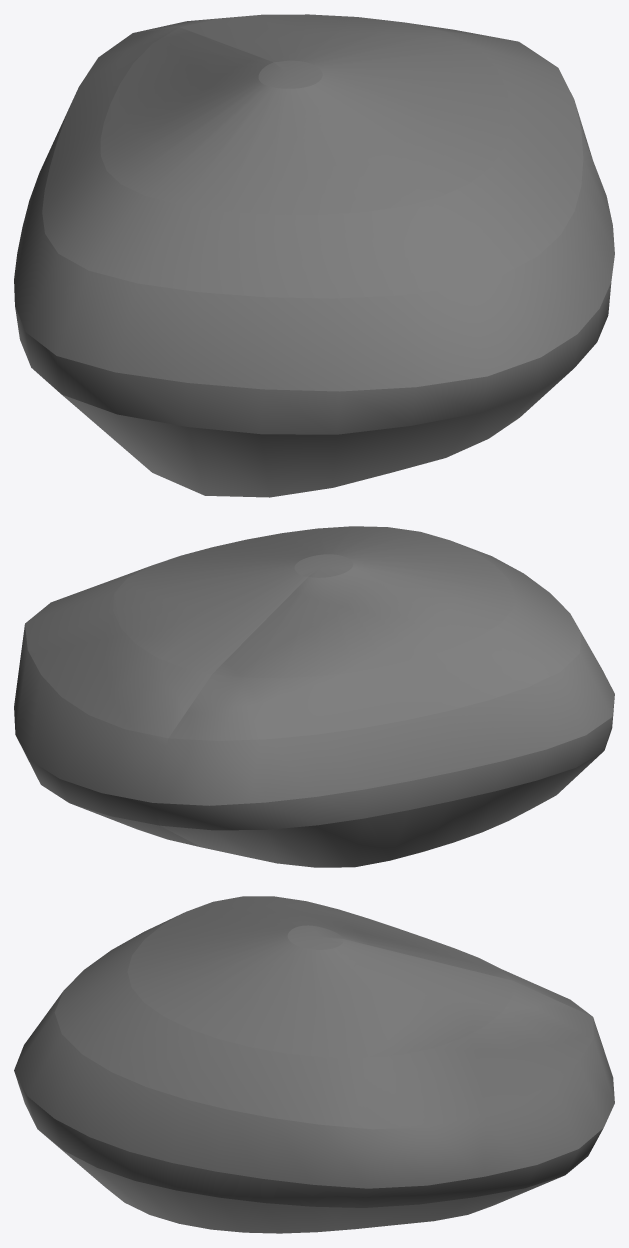
Rendered from Small stone3.fbx.
3 views of the same model, one above another, from view 1: azimuth 30°, elevation 25°; view 2: azimuth 150°, elevation 25°; view 3: azimuth 270°, elevation 25° (orthographic). The views are drawn at different scales.
Parts seen in each view (by area): view 1: SmallStone3; view 2: SmallStone3; view 3: SmallStone3.
Part boxes in pixels (x1=…): SmallStone3: x1=14, y1=14, x2=614, y2=497; SmallStone3: x1=14, y1=526, x2=614, y2=867; SmallStone3: x1=14, y1=896, x2=614, y2=1233.
Bounding box in the file's own units: 1.73 × 0.9178 × 1.85.
1 material, 1 textured.
